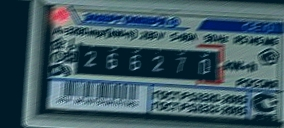0: (196, 58, 209, 76)
2: (82, 50, 96, 68), (150, 55, 162, 73)
6: (104, 52, 117, 71), (127, 54, 140, 73)
7: (173, 56, 185, 75)
screen: (64, 34, 229, 92)
